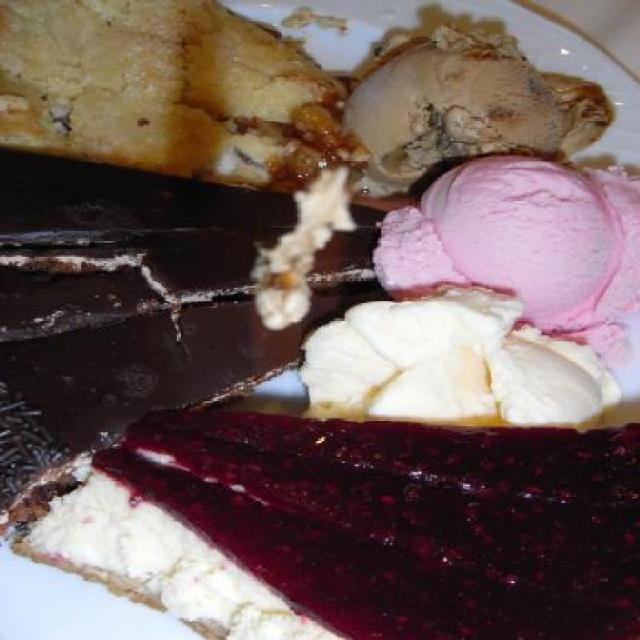Ice cream: (366, 147, 640, 361), (284, 278, 626, 438), (346, 22, 606, 200)
